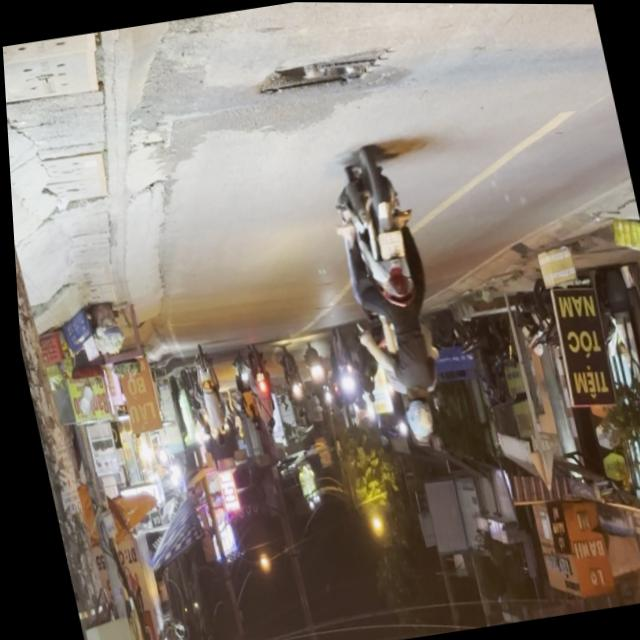helmet: (398, 393, 435, 443)
licenseplate: (320, 146, 461, 450)
nohelmet: (375, 231, 404, 260)
